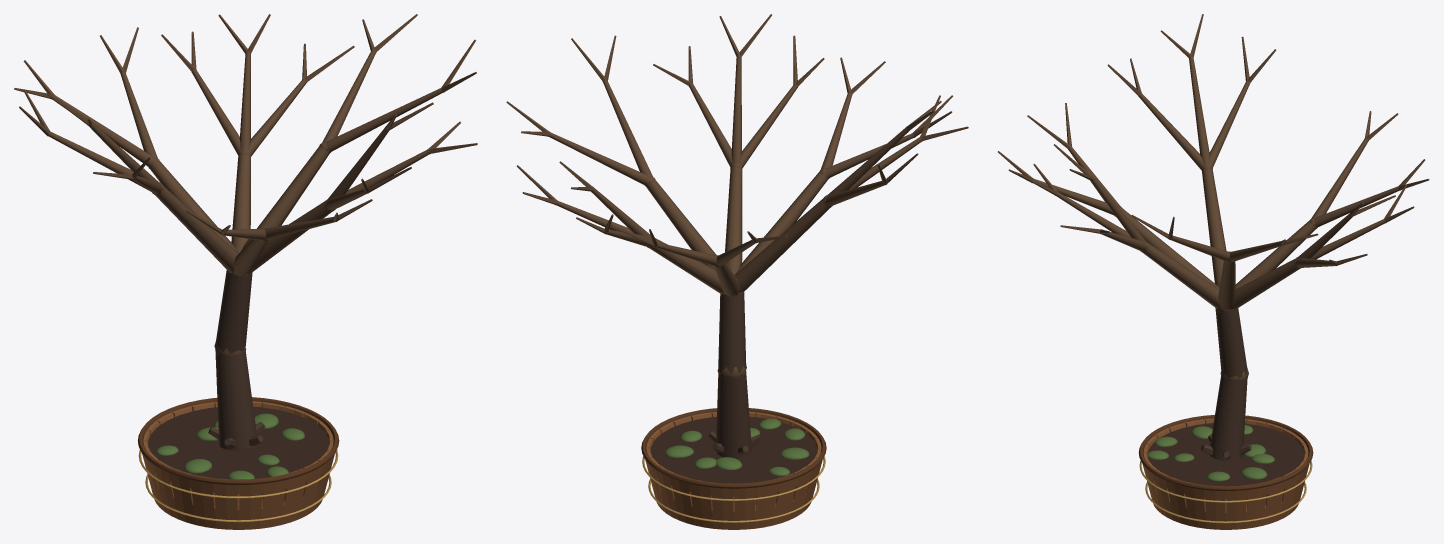
Rendered from prayer-tree.glb.
The picture shows the model from 3 angles, left to right: view 1: azimuth 30°, elevation 25°; view 2: azimuth 150°, elevation 25°; view 3: azimuth 270°, elevation 25°; orthographic projection. The views are drawn at different scales.
Visible parts, largest first — view 1: planter0, soil4, barkDark14, planterDark1, barkDark18, bark46, bark138, bark162, bark142, bark104, bark22, bark152 (+13 smaller); view 2: planter0, soil4, barkDark14, planterDark1, barkDark18, bark46, bark104, bark80, bark138, bark162, bark152, bark128 (+10 smaller); view 3: planter0, soil4, barkDark14, planterDark1, barkDark18, bark46, bark104, bark22, bark162, bark80, bark70, bark60 (+11 smaller).
Boxes of the visible parts, left/top/right/bottom form: planter0: left=142, top=401, right=334, bottom=529; soil4: left=148, top=406, right=328, bottom=479; barkDark14: left=215, top=350, right=256, bottom=450; planterDark1: left=138, top=397, right=339, bottom=484; barkDark18: left=215, top=270, right=252, bottom=353; bark46: left=155, top=185, right=238, bottom=273; bark138: left=241, top=146, right=329, bottom=250; bark162: left=231, top=153, right=250, bottom=252; bark142: left=325, top=88, right=442, bottom=152; bark104: left=249, top=201, right=331, bottom=273; bark22: left=150, top=161, right=236, bottom=251; bark152: left=322, top=50, right=375, bottom=142; planter0: left=645, top=411, right=822, bottom=529; soil4: left=650, top=416, right=817, bottom=483; barkDark14: left=716, top=371, right=751, bottom=458; planterDark1: left=641, top=408, right=826, bottom=488; barkDark18: left=718, top=292, right=746, bottom=373; bark46: left=734, top=198, right=830, bottom=292; bark104: left=725, top=166, right=742, bottom=274; bark80: left=736, top=172, right=827, bottom=272; bark138: left=646, top=180, right=716, bottom=269; bark162: left=650, top=238, right=724, bottom=294; bark152: left=549, top=132, right=649, bottom=185; bark128: left=731, top=56, right=741, bottom=164; planter0: left=1142, top=418, right=1309, bottom=529; soil4: left=1148, top=423, right=1304, bottom=486; barkDark14: left=1210, top=374, right=1247, bottom=461; planterDark1: left=1138, top=415, right=1313, bottom=490; barkDark18: left=1215, top=308, right=1247, bottom=379; bark46: left=1201, top=168, right=1226, bottom=287; bark104: left=1143, top=243, right=1221, bottom=308; bark22: left=1235, top=221, right=1316, bottom=288; bark162: left=1230, top=259, right=1299, bottom=309; bark80: left=1122, top=209, right=1219, bottom=288; bark70: left=1189, top=57, right=1210, bottom=164; bark60: left=1139, top=94, right=1204, bottom=169.
Bounding box in the file's own units: 3.84 × 3.99 × 3.92.
